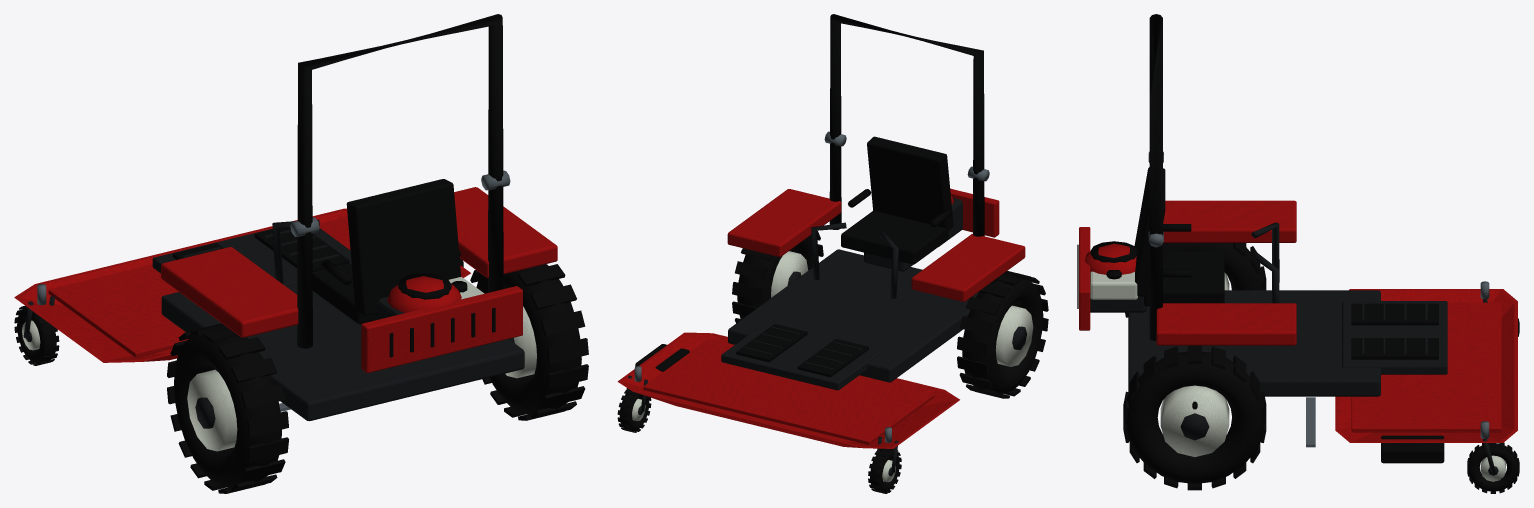
Rendered from CommercialZeroTurn.gltf.
3 views of the same model, side by side, from view 1: azimuth 30°, elevation 25°; view 2: azimuth 150°, elevation 25°; view 3: azimuth 270°, elevation 25° (orthographic). The views are drawn at different scales.
Parts seen in each view (by area): view 1: CommercialZeroTurn__Body, CommercialZeroTurn__Wheel_Rear-1, CommercialZeroTurn__Wheel_Rear1, CommercialZeroTurn__Wheel_Front-1; view 2: CommercialZeroTurn__Body, CommercialZeroTurn__Wheel_Rear-1, CommercialZeroTurn__Wheel_Rear1, CommercialZeroTurn__Wheel_Front-1, CommercialZeroTurn__Wheel_Front1; view 3: CommercialZeroTurn__Body, CommercialZeroTurn__Wheel_Rear1, CommercialZeroTurn__Wheel_Rear-1, CommercialZeroTurn__Wheel_Front1, CommercialZeroTurn.
Part boxes in pixels (x1,y1,x2,y2): CommercialZeroTurn__Body: [14, 14, 557, 421]; CommercialZeroTurn__Wheel_Rear-1: [167, 323, 288, 493]; CommercialZeroTurn__Wheel_Rear1: [470, 264, 588, 420]; CommercialZeroTurn__Wheel_Front-1: [14, 306, 59, 365]; CommercialZeroTurn__Body: [617, 14, 1025, 472]; CommercialZeroTurn__Wheel_Rear-1: [957, 271, 1048, 398]; CommercialZeroTurn__Wheel_Rear1: [732, 231, 823, 323]; CommercialZeroTurn__Wheel_Front-1: [868, 448, 901, 493]; CommercialZeroTurn__Wheel_Front1: [617, 388, 651, 432]; CommercialZeroTurn__Body: [1077, 14, 1517, 472]; CommercialZeroTurn__Wheel_Rear1: [1123, 345, 1266, 490]; CommercialZeroTurn__Wheel_Rear-1: [1125, 243, 1266, 317]; CommercialZeroTurn__Wheel_Front1: [1467, 442, 1519, 493]; CommercialZeroTurn: [1306, 397, 1315, 447].
Bounding box in the file's own units: 1.76 × 1.9 × 2.08.
1 material, 1 textured.
